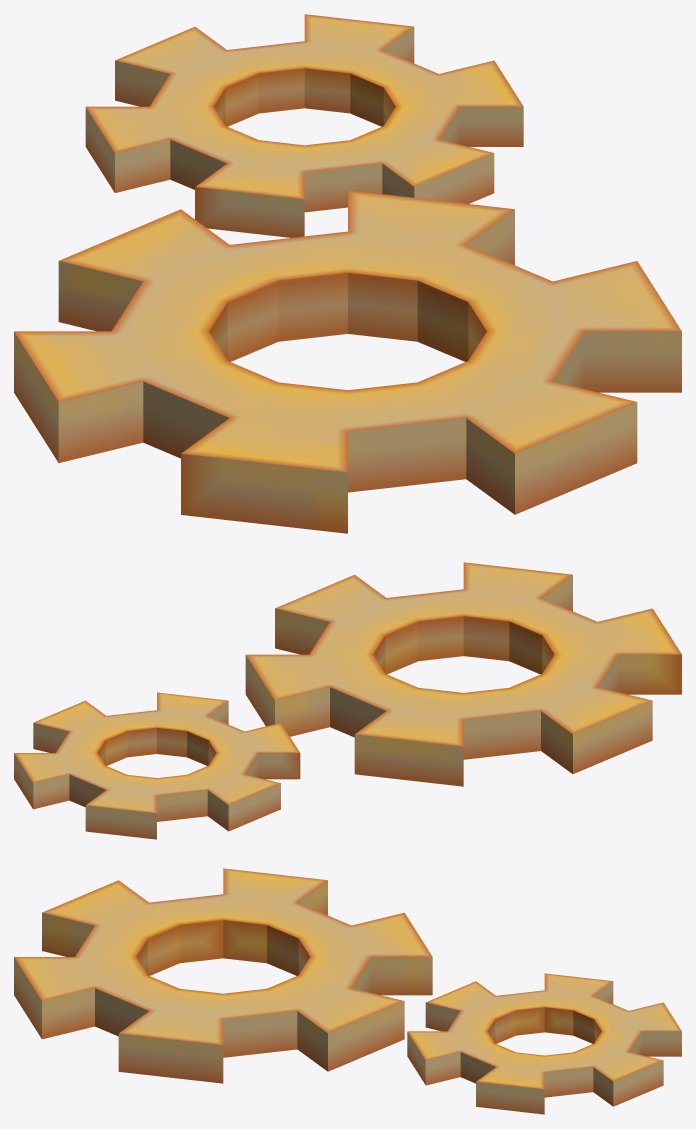
File: GEAR.fbx
The picture shows the model from 3 angles, top to bottom: view 1: azimuth 30°, elevation 25°; view 2: azimuth 150°, elevation 25°; view 3: azimuth 270°, elevation 25°; orthographic projection. The views are drawn at different scales.
Parts seen in each view (by area): view 1: Cylinder, Cylinder.001; view 2: Cylinder, Cylinder.001; view 3: Cylinder, Cylinder.001.
Boxes of the visible parts, bbox=[...] form: Cylinder: bbox=[14, 190, 681, 533]; Cylinder.001: bbox=[85, 14, 523, 237]; Cylinder: bbox=[245, 562, 681, 786]; Cylinder.001: bbox=[14, 692, 300, 839]; Cylinder: bbox=[14, 868, 432, 1083]; Cylinder.001: bbox=[407, 973, 681, 1114].
Size of the model in its own units: 237 by 20 by 316.
1 material, 1 textured.
